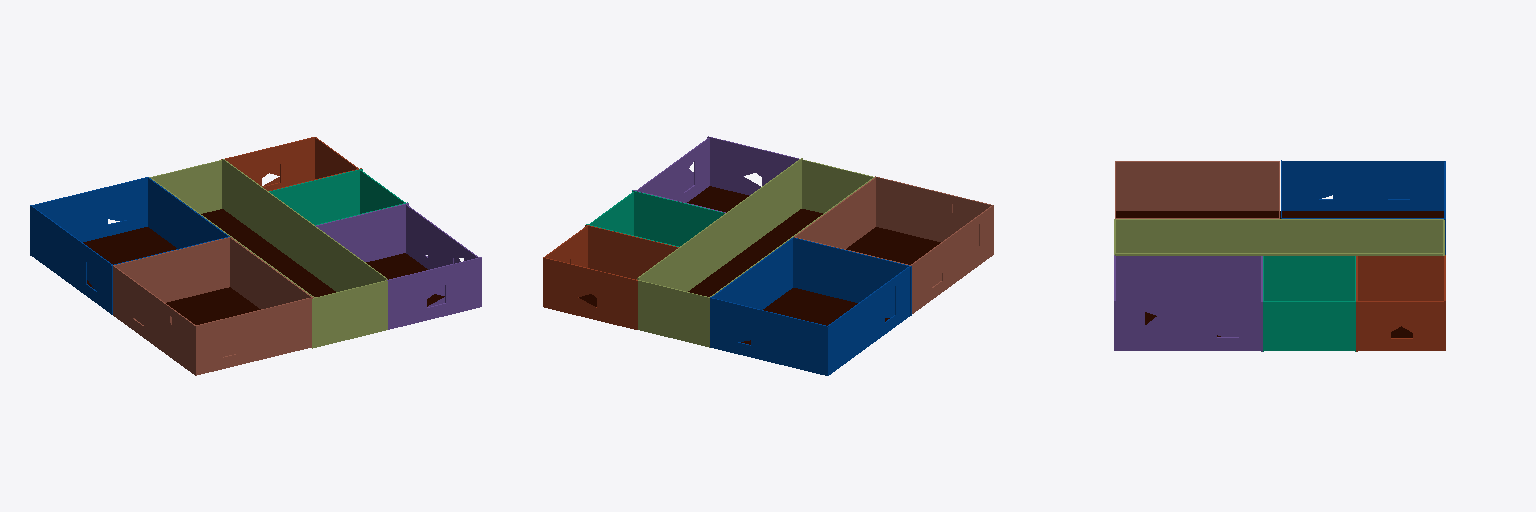
The model's file is cameralvl1.obj.
3 renders of one model, left to right at view 1: azimuth 30°, elevation 25°; view 2: azimuth 150°, elevation 25°; view 3: azimuth 270°, elevation 25°, orthographic.
Visible parts, largest first — view 1: Podea_Plane, Perete2.012_Cube.001, Camere1.004_Cube.011, Camere1_Cube.005, Perete2.009_Cube.024, Camere1.002_Cube.009, Camere1.005_Cube.012, Camere1.003_Cube.010, Camere1.008_Cube.028, Perete2.008_Cube.023, Perete2.003_Cube.017, Camere1.006_Cube.013 (+6 smaller); view 2: Podea_Plane, Perete2.012_Cube.001, Camere1.002_Cube.009, Camere1.001_Cube.006, Perete2_Cube.002, Camere1.004_Cube.011, Camere1.005_Cube.012, Camere1.003_Cube.010, Camere1.009_Cube.029, Perete2.004_Cube.018, Perete2.009_Cube.024, Perete2.001_Cube.015 (+6 smaller); view 3: Camere1.010_Cube.003, Camere1.005_Cube.012, Camere1.003_Cube.010, Perete2.010_Cube.025, Perete2.011_Cube.027, Perete2.006_Cube.020, Perete2.005_Cube.019, Perete2.007_Cube.022, Perete2.002_Cube.016, Podea_Plane, Perete2.012_Cube.001.
Boxes of the visible parts, x1=… form: Podea_Plane: x1=83, y1=209, x2=444, y2=324; Perete2.012_Cube.001: x1=222, y1=159, x2=387, y2=291; Camere1.004_Cube.011: x1=195, y1=297, x2=313, y2=375; Camere1_Cube.005: x1=113, y1=237, x2=231, y2=302; Perete2.009_Cube.024: x1=387, y1=257, x2=481, y2=329; Camere1.002_Cube.009: x1=30, y1=177, x2=147, y2=255; Camere1.005_Cube.012: x1=113, y1=266, x2=195, y2=374; Camere1.003_Cube.010: x1=30, y1=205, x2=112, y2=313; Camere1.008_Cube.028: x1=312, y1=280, x2=387, y2=348; Perete2.008_Cube.023: x1=316, y1=203, x2=408, y2=261; Perete2.003_Cube.017: x1=269, y1=169, x2=362, y2=224; Camere1.006_Cube.013: x1=230, y1=238, x2=311, y2=308; Podea_Plane: x1=579, y1=186, x2=940, y2=344; Perete2.012_Cube.001: x1=637, y1=158, x2=802, y2=291; Camere1.002_Cube.009: x1=710, y1=297, x2=828, y2=375; Camere1.001_Cube.006: x1=793, y1=237, x2=911, y2=315; Perete2_Cube.002: x1=543, y1=257, x2=637, y2=329; Camere1.004_Cube.011: x1=875, y1=176, x2=993, y2=254; Camere1.005_Cube.012: x1=910, y1=205, x2=992, y2=313; Camere1.003_Cube.010: x1=828, y1=266, x2=909, y2=374; Camere1.009_Cube.029: x1=638, y1=280, x2=709, y2=347; Perete2.004_Cube.018: x1=632, y1=190, x2=724, y2=246; Perete2.009_Cube.024: x1=707, y1=136, x2=798, y2=195; Perete2.001_Cube.015: x1=585, y1=225, x2=678, y2=279; Camere1.010_Cube.003: x1=1115, y1=219, x2=1443, y2=252; Camere1.005_Cube.012: x1=1116, y1=161, x2=1279, y2=210; Camere1.003_Cube.010: x1=1282, y1=161, x2=1444, y2=210; Perete2.010_Cube.025: x1=1116, y1=301, x2=1260, y2=350; Perete2.011_Cube.027: x1=1116, y1=256, x2=1260, y2=300; Perete2.006_Cube.020: x1=1264, y1=301, x2=1354, y2=350; Perete2.005_Cube.019: x1=1358, y1=301, x2=1444, y2=350; Perete2.007_Cube.022: x1=1264, y1=256, x2=1354, y2=300; Perete2.002_Cube.016: x1=1358, y1=256, x2=1443, y2=300; Podea_Plane: x1=1116, y1=211, x2=1443, y2=337; Perete2.012_Cube.001: x1=1115, y1=253, x2=1442, y2=255.
Bounding box in the file's own units: 60.78 × 10.43 × 60.65.